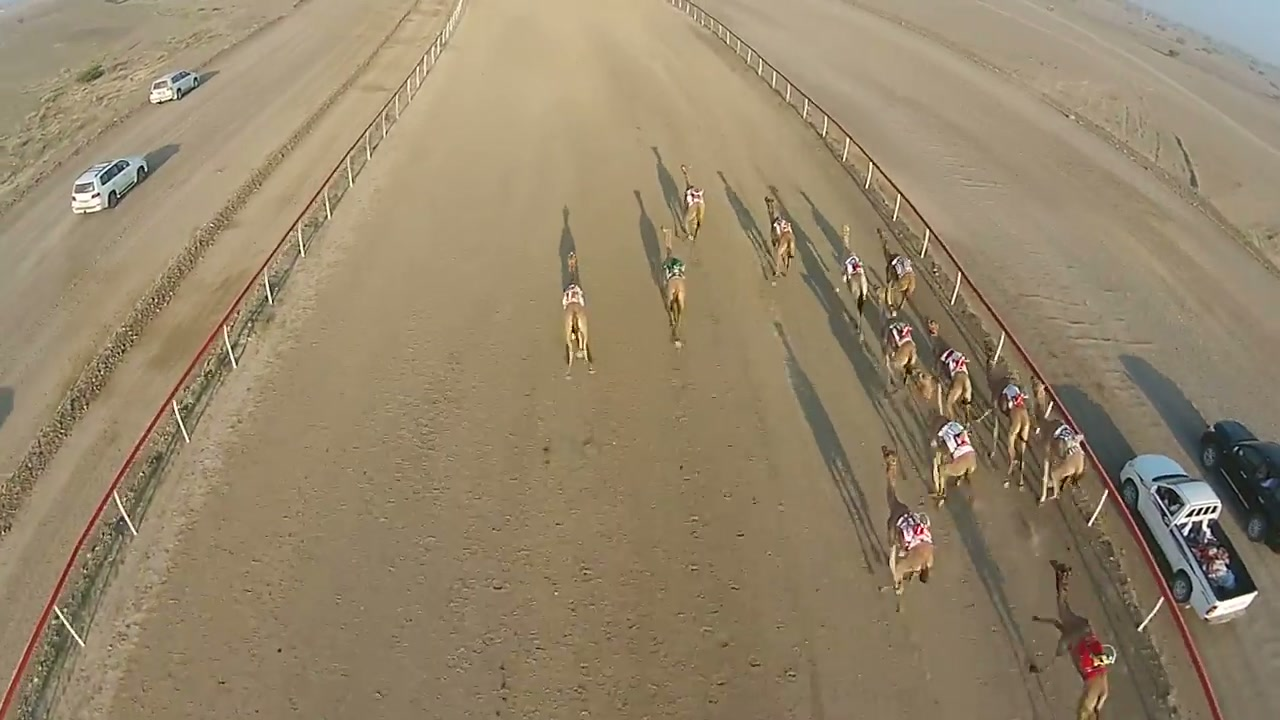animal_footprint: (562, 686, 586, 702), (578, 660, 594, 680), (750, 656, 764, 676), (777, 498, 788, 518), (562, 634, 578, 647), (726, 584, 743, 596), (628, 675, 642, 689), (501, 562, 514, 576), (674, 612, 688, 624), (702, 624, 714, 638), (648, 681, 659, 696), (722, 491, 739, 500), (786, 671, 802, 680), (681, 474, 696, 483), (696, 591, 708, 601), (736, 530, 747, 540), (691, 531, 702, 540), (751, 498, 765, 505), (718, 680, 730, 688), (710, 698, 721, 706), (690, 516, 701, 524), (690, 564, 700, 572)
